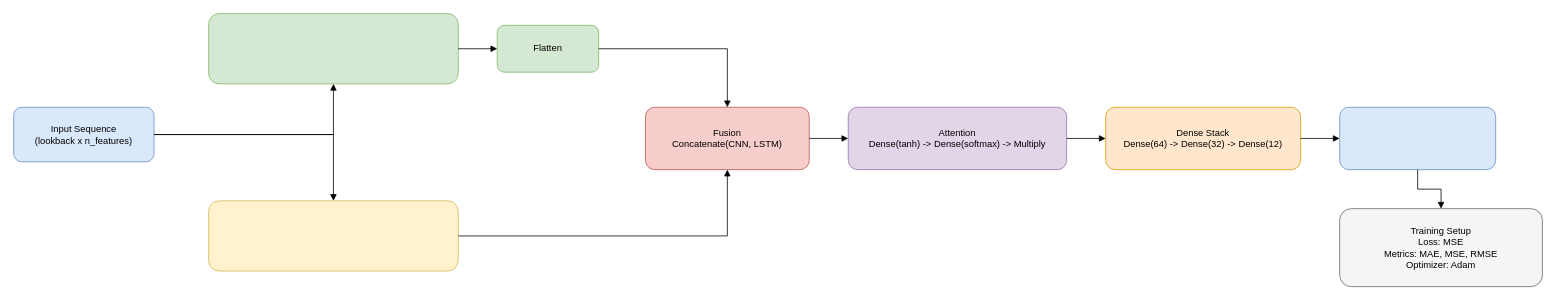
Image size: 1556x300. Some labels were removed from this diagram. Here are the shapes that lost their labels. From the top down, the centre of each, then its label:
At (x=333, y=48): "CNN Stream Conv1D(32,5) -> Conv1D(64,3) -> Conv1D(128,1)".
At (x=1417, y=138): "Output Dense(1), linear Predicted PV Power".
At (x=333, y=235): "LSTM Stream LSTM(100, return_sequences=True) -> LSTM(100)".
